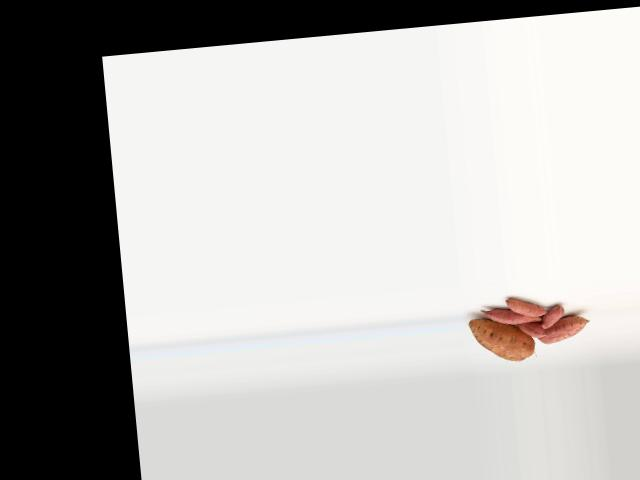sweet_potato: (537, 314, 592, 344)
